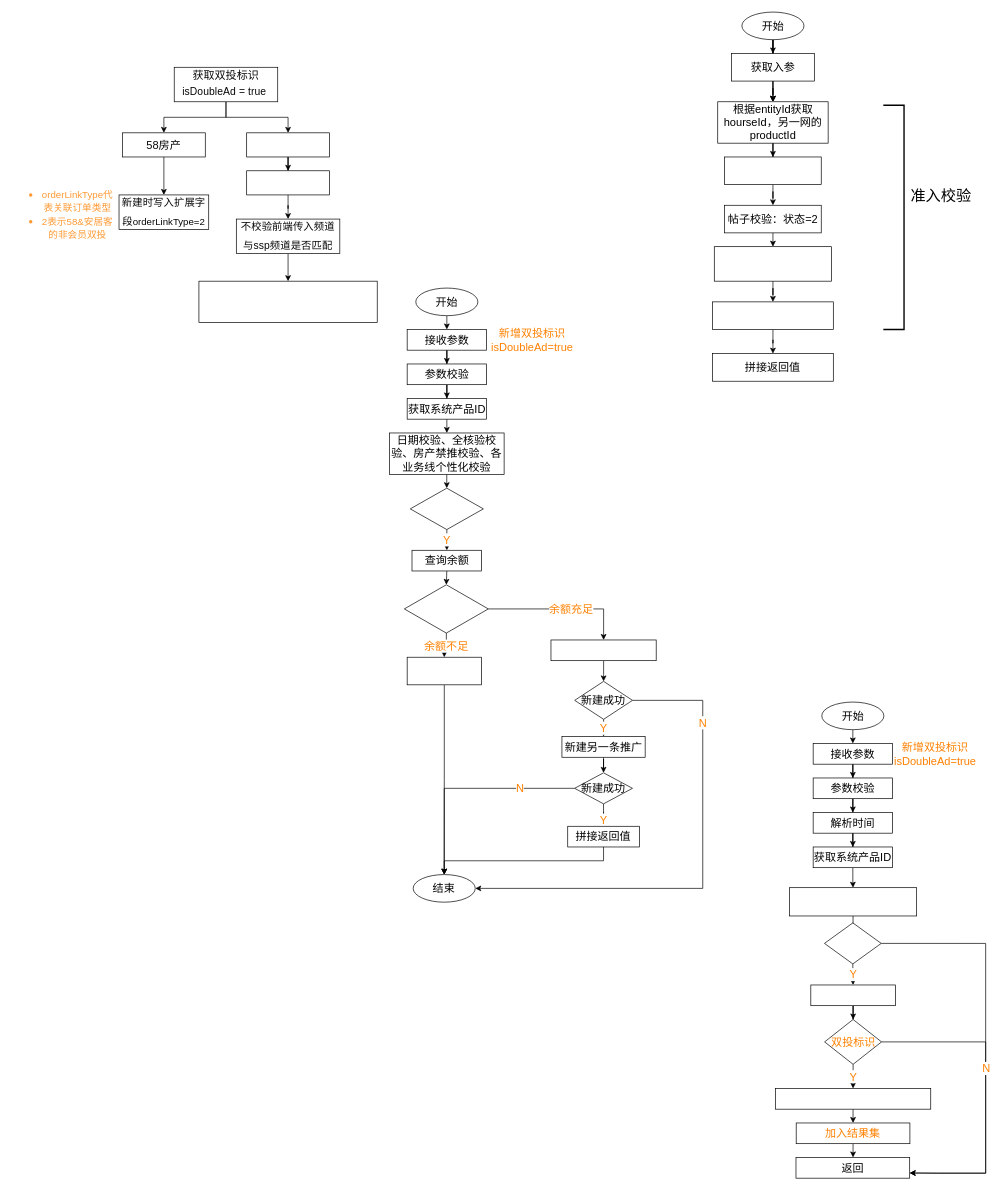
Some shapes in this 1003 by 1191 pixel diagram are drawn without their labels. Each missing label, with the centre of its shape:
"使用房源库帖和频道进行投放，并且新建时写入扩展字段 orderLinkType=2" goes at (287,301).
"再次校验是否可以双投" goes at (287,182).
"判断双投标识" goes at (446,508).
"判断推广金额amount与余额" goes at (446,608).
"售卖校验" goes at (772,315).
"安居客" goes at (287,144).
"拼接CalPriceEntity，查询价格" goes at (853,1098).
"拼接结果" goes at (852,995).
"拼接计算价格入参CalPriceEntity，查询价格" goes at (853,901).
"构建参数、新建推广" goes at (603,650).
"灰度城市校验" goes at (772,170).
"结果正常" goes at (852,943).
"身份校验：1⃣️个人用户2⃣️房源属于账号" goes at (773,263).
"返回充值链接和回调页面" goes at (443,671).
